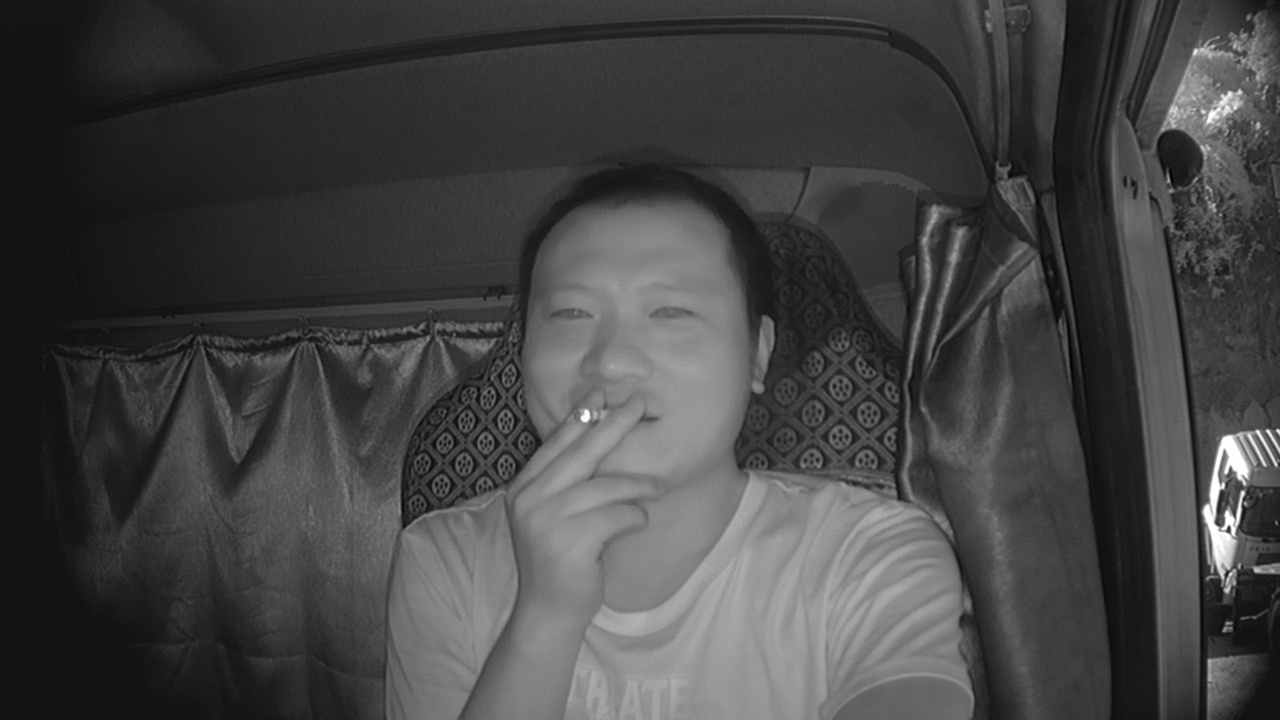hand: (509, 390, 665, 597)
